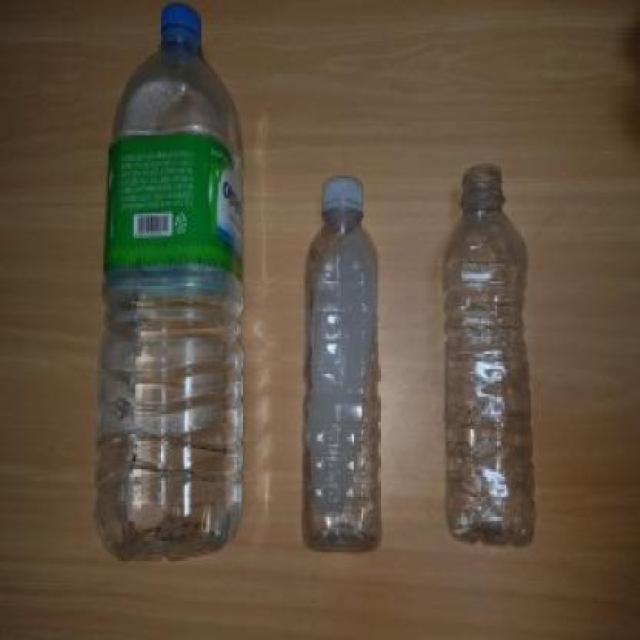Pet_Bottle: (100, 7, 245, 535), (445, 166, 533, 545), (303, 175, 380, 548)
